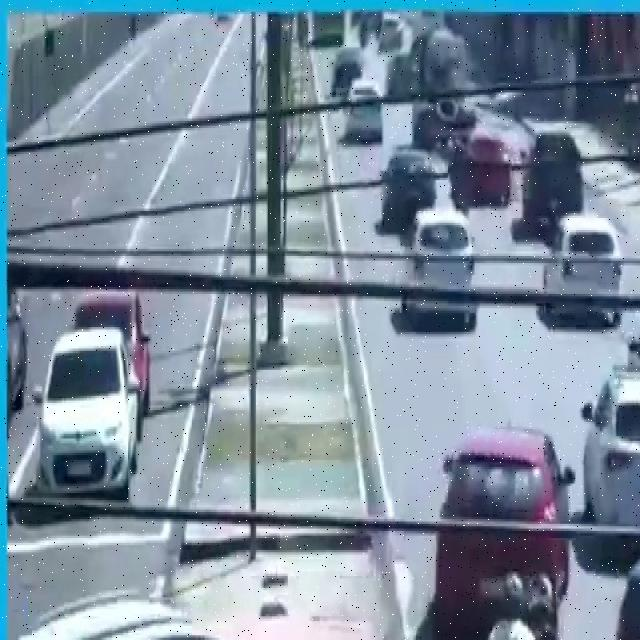biker: (471, 559, 618, 640)
car: (435, 420, 572, 630), (41, 325, 143, 508), (10, 592, 358, 640), (581, 370, 640, 548), (400, 203, 479, 334), (540, 212, 628, 326), (602, 535, 640, 640)
